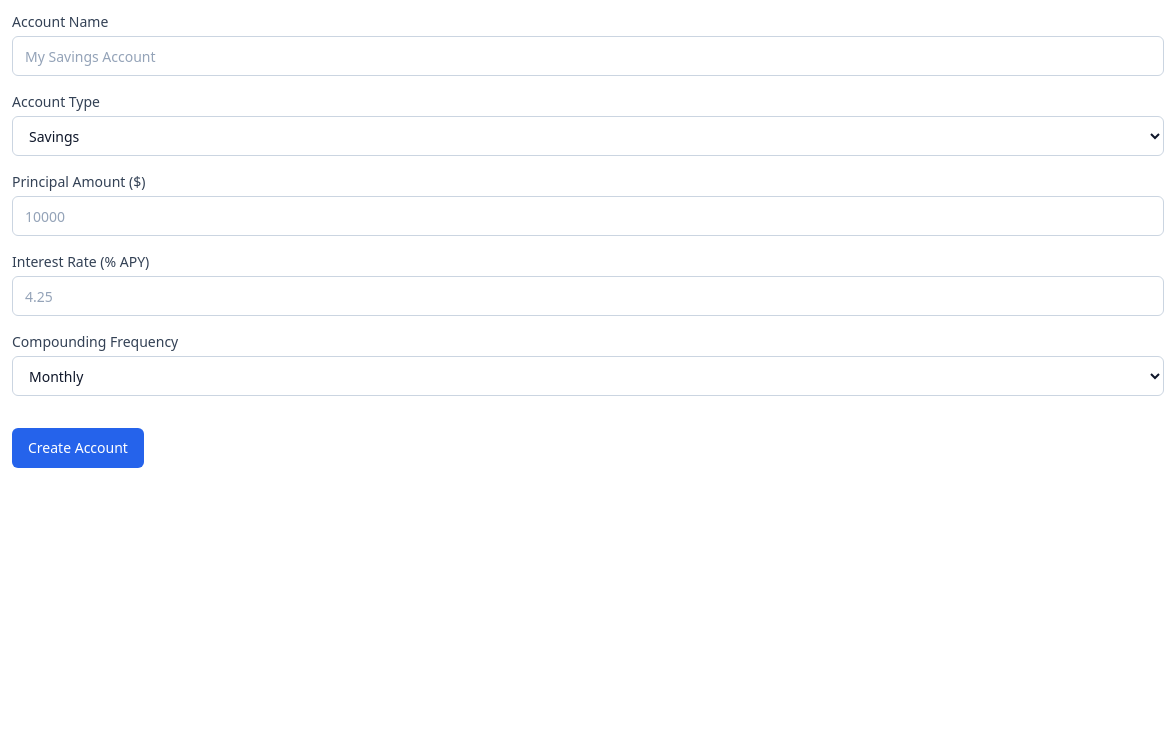
it: AccountForm › shows CD start date/term/auto-renew fields once "cd" is selected
Select "Certificate of Deposit (CD)" in the dropdown labelled "Account Type": (588, 136) top-left (12, 116), bottom-right (1164, 156)
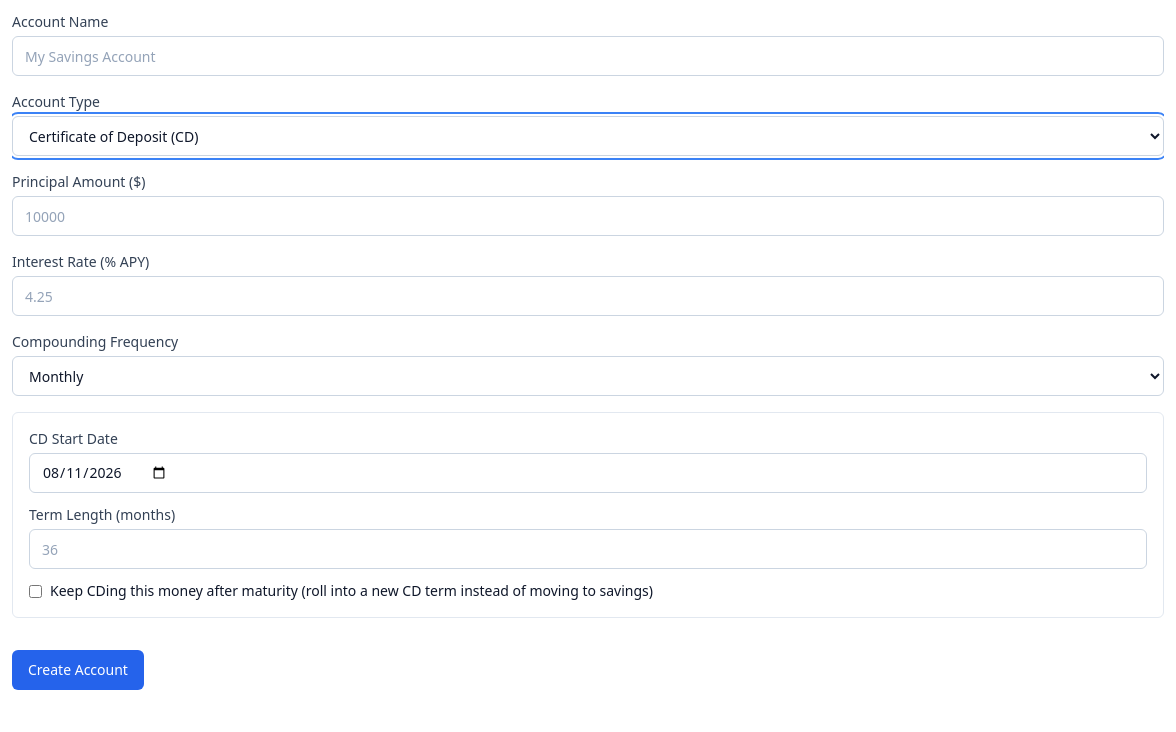
Expected: the date field labelled "CD Start Date" is shown, top-left (29, 453), bottom-right (1147, 493)
Expected: the number field labelled "Term Length (months)" is shown, top-left (29, 529), bottom-right (1147, 569)
Expected: the text "Keep CDing this money after maturity" is shown, top-left (50, 581), bottom-right (653, 600)
